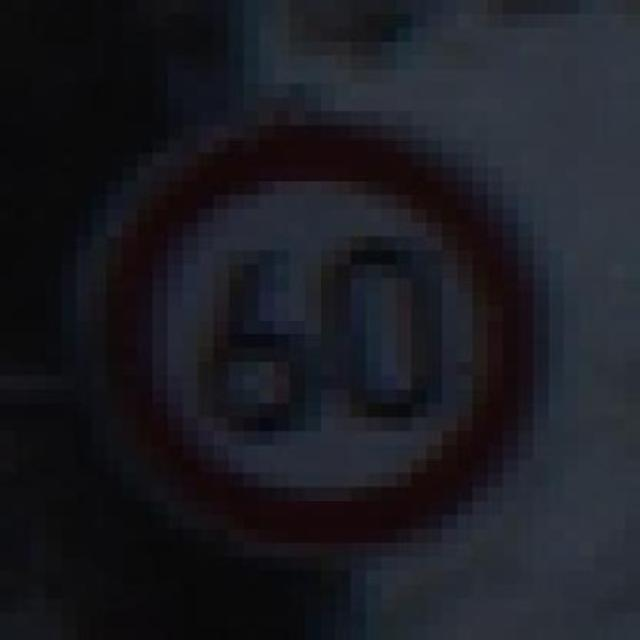forb_speed_over_60: (96, 124, 541, 542)
